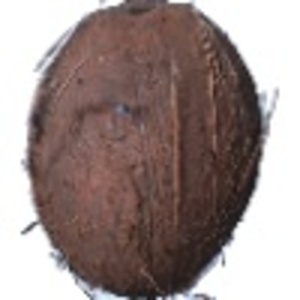coco: (22, 1, 275, 300)
